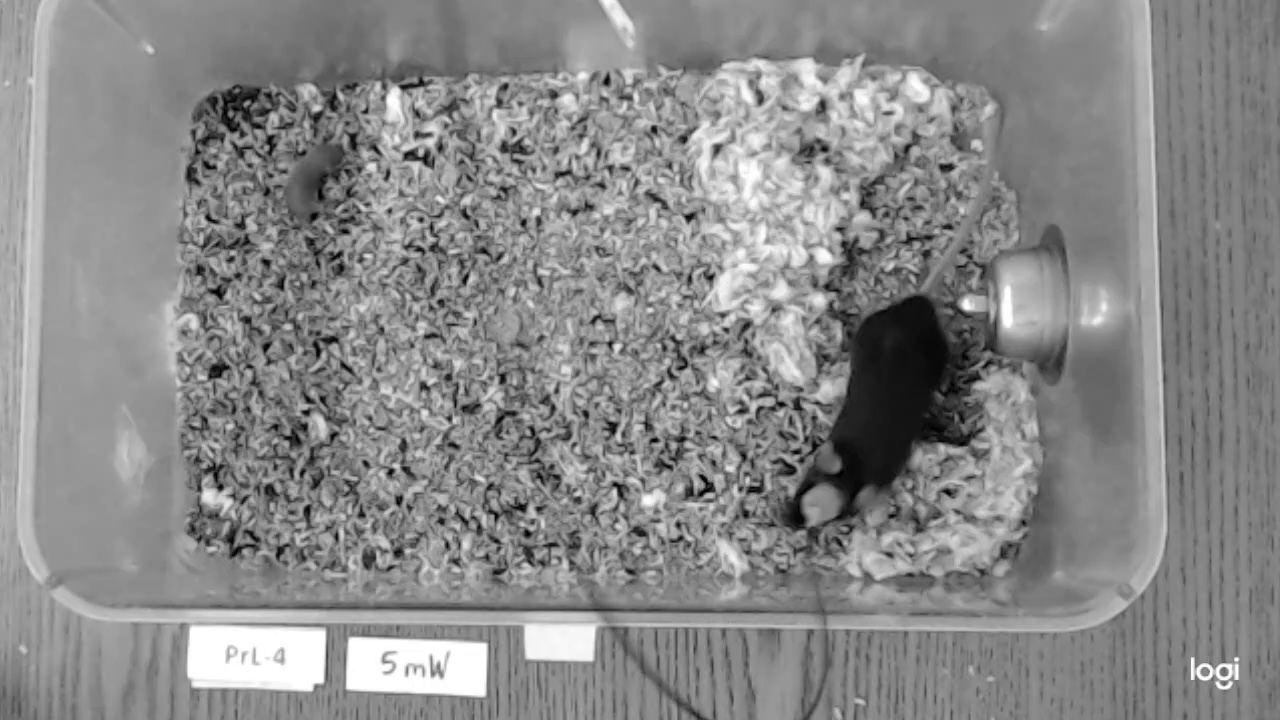child-mice: (282, 141, 346, 225)
